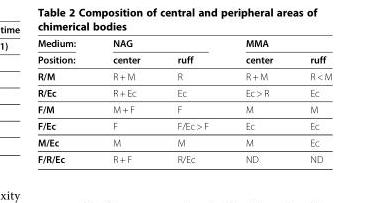table: (36, 37, 331, 164)
table column: (158, 37, 226, 164), (93, 37, 158, 164), (226, 37, 290, 164), (36, 37, 93, 164), (290, 37, 331, 164)
table column header: (36, 37, 331, 67)
table row: (36, 67, 331, 84), (36, 100, 331, 117), (36, 133, 331, 150), (36, 51, 331, 67), (36, 84, 331, 100), (36, 117, 331, 133), (36, 37, 331, 51), (36, 150, 331, 164)
table spanning cell: (93, 37, 226, 51), (36, 37, 93, 67), (226, 37, 331, 51)
